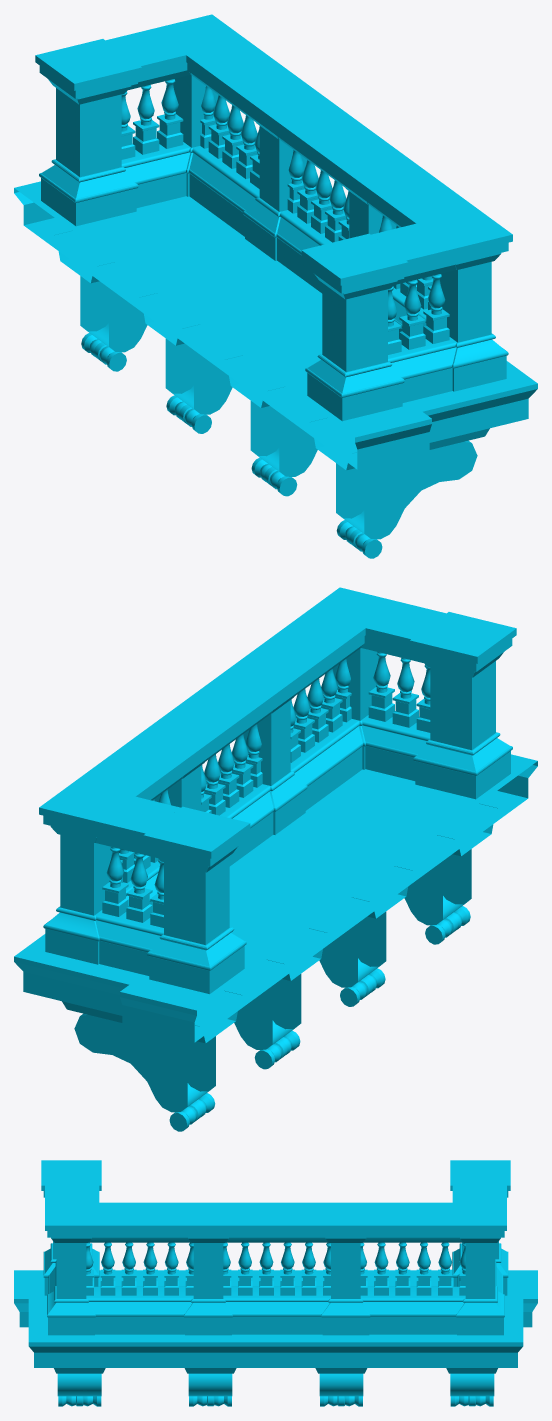
Rendered from Window_Fence.FBX.
3 renders of one model, top to bottom at view 1: azimuth 30°, elevation 25°; view 2: azimuth 150°, elevation 25°; view 3: azimuth 270°, elevation 25°, orthographic. The views are drawn at different scales.
Parts seen in each view (by area): view 1: Dummy001, Box106, Box103, Box129, Cylinder216, Cylinder213, Cylinder212, Cylinder215, Cylinder208, Cylinder207, Cylinder196, Cylinder209 (+6 smaller); view 2: Dummy001, Box106, Box103, Box129, Cylinder213, Cylinder216, Cylinder212, Cylinder215, Cylinder198, Cylinder202, Cylinder204, Cylinder197 (+6 smaller); view 3: Dummy001, Box106, Box103, Box129, Cylinder203, Cylinder209, Cylinder208, Cylinder195, Cylinder204, Cylinder207, Cylinder210, Cylinder197 (+9 smaller).
Boxes of the visible parts, <box> form: Dummy001: <box>35,39,508,421</box>; Box106: <box>14,181,537,469</box>; Box103: <box>106,14,512,276</box>; Box129: <box>54,230,489,558</box>; Cylinder216: <box>133,85,159,154</box>; Cylinder213: <box>399,279,425,349</box>; Cylinder212: <box>423,274,449,343</box>; Cylinder215: <box>157,79,183,148</box>; Cylinder208: <box>222,105,243,168</box>; Cylinder207: <box>208,95,229,158</box>; Cylinder196: <box>311,170,332,233</box>; Cylinder209: <box>236,115,257,178</box>; Dummy001: <box>43,612,516,994</box>; Box106: <box>14,754,537,1042</box>; Box103: <box>39,587,445,849</box>; Box129: <box>62,803,497,1131</box>; Cylinder213: <box>392,658,418,727</box>; Cylinder216: <box>126,852,152,922</box>; Cylinder212: <box>368,652,394,721</box>; Cylinder215: <box>102,847,128,916</box>; Cylinder198: <box>232,734,253,797</box>; Cylinder202: <box>293,689,314,752</box>; Cylinder204: <box>321,668,342,732</box>; Cylinder197: <box>218,744,239,807</box>; Dummy001: <box>41,1160,510,1335</box>; Box106: <box>14,1270,537,1367</box>; Box103: <box>45,1185,506,1237</box>; Box129: <box>54,1368,497,1406</box>; Cylinder203: <box>121,1242,136,1295</box>; Cylinder209: <box>395,1242,410,1295</box>; Cylinder208: <box>416,1242,431,1295</box>; Cylinder195: <box>301,1242,316,1295</box>; Cylinder204: <box>100,1242,115,1295</box>; Cylinder207: <box>438,1242,452,1295</box>; Cylinder210: <box>374,1242,388,1295</box>; Cylinder197: <box>259,1242,273,1295</box>.
Bounding box in the file's own units: 210 × 311 × 643.
